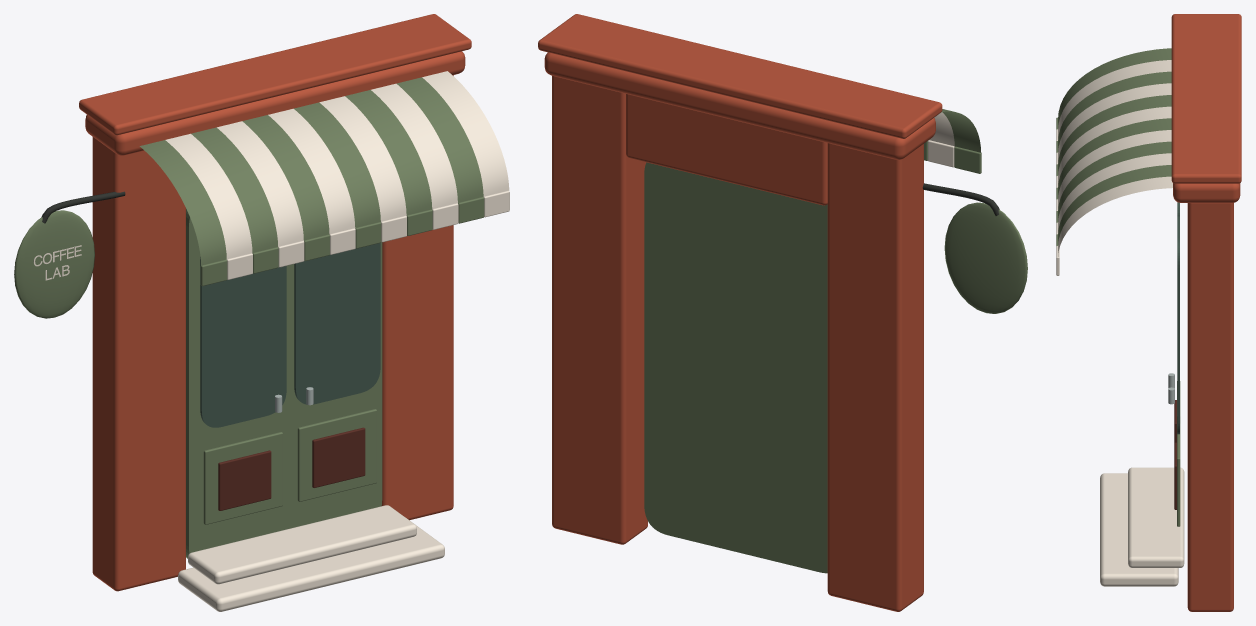
Rendered from garden-storefront.glb.
3 renders of one model, left to right at view 1: azimuth 30°, elevation 25°; view 2: azimuth 150°, elevation 25°; view 3: azimuth 270°, elevation 25°, orthographic. The views are drawn at different scales.
Parts seen in each view (by area): view 1: surface-#B5543A,0,0.7, surface-#6F7F5F,0,0.7, surface-#465A50,0.3,0.2, surface-6f7f5f (×6), surface-f0e6d8 (×6), surface-#F0E6D8,0,0.7, surface-#5A2E25,0,0.7; view 2: surface-#B5543A,0,0.7, surface-#6F7F5F,0,0.7, surface-6f7f5f; view 3: surface-#B5543A,0,0.7, surface-#F0E6D8,0,0.7, surface-f0e6d8 (×6), surface-6f7f5f (×6), surface-#465A50,0.3,0.2, surface-#6F7F5F,0,0.7, surface-#5A2E25,0,0.7.
Boxes of the visible parts, x1=… form: surface-#B5543A,0,0.7: x1=79, y1=14, x2=471, y2=591; surface-#6F7F5F,0,0.7: x1=14, y1=197, x2=484, y2=558; surface-#465A50,0.3,0.2: x1=200, y1=243, x2=380, y2=427; surface-6f7f5f (×6): x1=139, y1=77, x2=483, y2=266; surface-f0e6d8 (×6): x1=165, y1=71, x2=509, y2=259; surface-#F0E6D8,0,0.7: x1=33, y1=190, x2=509, y2=611; surface-#5A2E25,0,0.7: x1=218, y1=427, x2=365, y2=510; surface-#B5543A,0,0.7: x1=538, y1=14, x2=942, y2=611; surface-#6F7F5F,0,0.7: x1=644, y1=141, x2=1027, y2=573; surface-6f7f5f: x1=941, y1=109, x2=981, y2=153; surface-#B5543A,0,0.7: x1=1171, y1=14, x2=1241, y2=611; surface-#F0E6D8,0,0.7: x1=1056, y1=129, x2=1184, y2=586; surface-f0e6d8 (×6): x1=1058, y1=60, x2=1172, y2=256; surface-6f7f5f (×6): x1=1058, y1=48, x2=1171, y2=244; surface-#465A50,0.3,0.2: x1=1177, y1=202, x2=1179, y2=434; surface-#6F7F5F,0,0.7: x1=1056, y1=117, x2=1180, y2=526; surface-#5A2E25,0,0.7: x1=1174, y1=400, x2=1176, y2=509.
Bounding box in the file's own units: 3.44 × 3.48 × 1.32.
